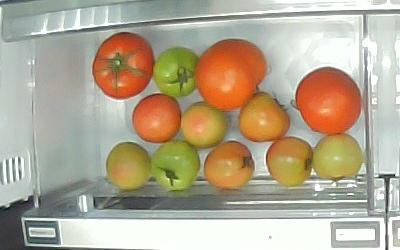tomato: (197, 39, 267, 111), (291, 66, 361, 136), (92, 32, 153, 100), (238, 92, 289, 143), (130, 93, 181, 144), (203, 141, 255, 191), (313, 134, 363, 182), (266, 136, 314, 186), (151, 142, 201, 190), (180, 101, 229, 149), (154, 47, 201, 97), (105, 141, 151, 188)
